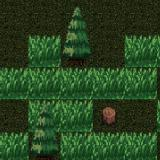Obstacle: (61, 35, 94, 66), (94, 99, 125, 132), (28, 132, 61, 160)
Slow: (0, 68, 157, 99), (60, 132, 157, 160), (28, 99, 94, 132), (124, 36, 160, 68), (28, 35, 61, 67), (0, 132, 28, 160)
